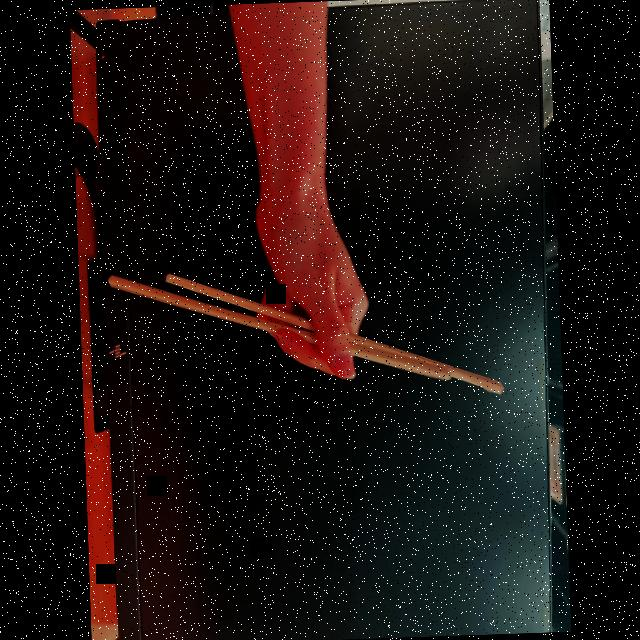stick: (137, 260, 502, 406)
